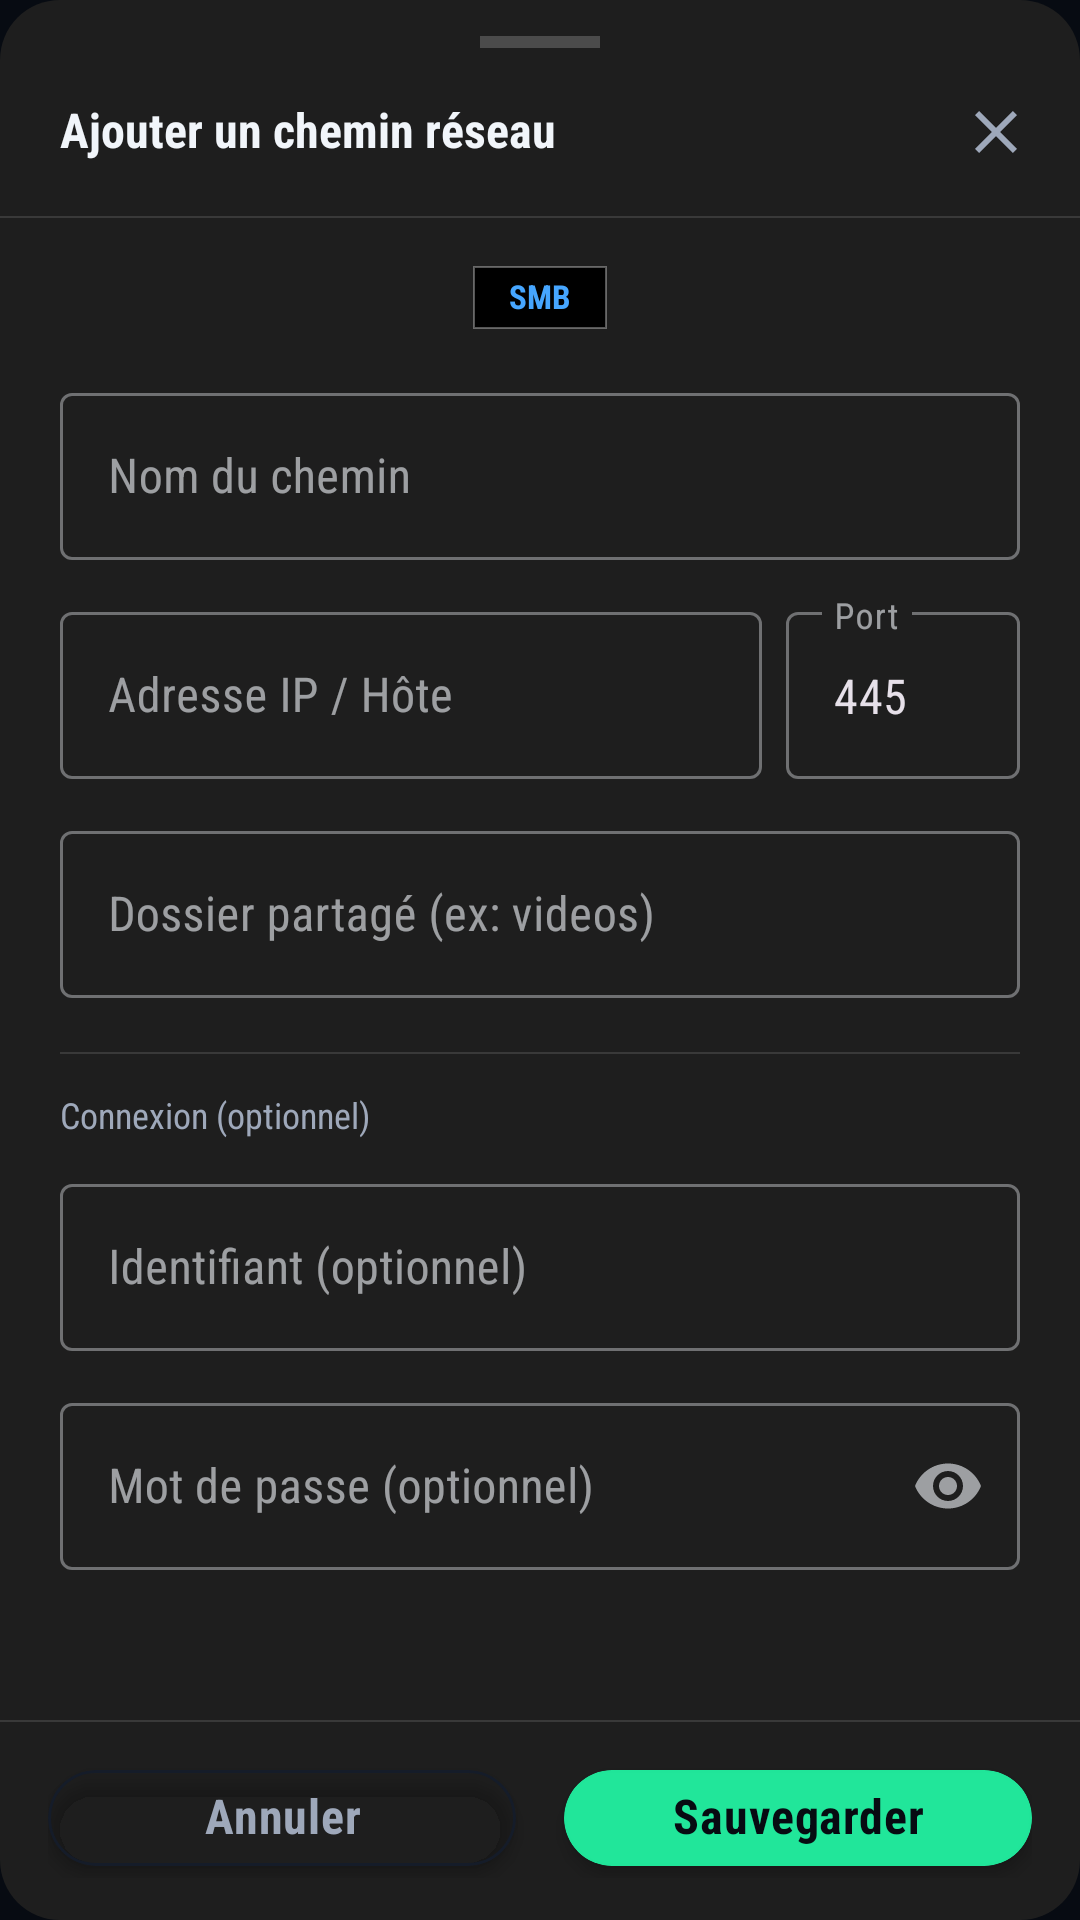

Icons on this 1080px x 1920px Android screen, each with the point to tap as (x=x, y=y):
Fermer: (x=996, y=132)
